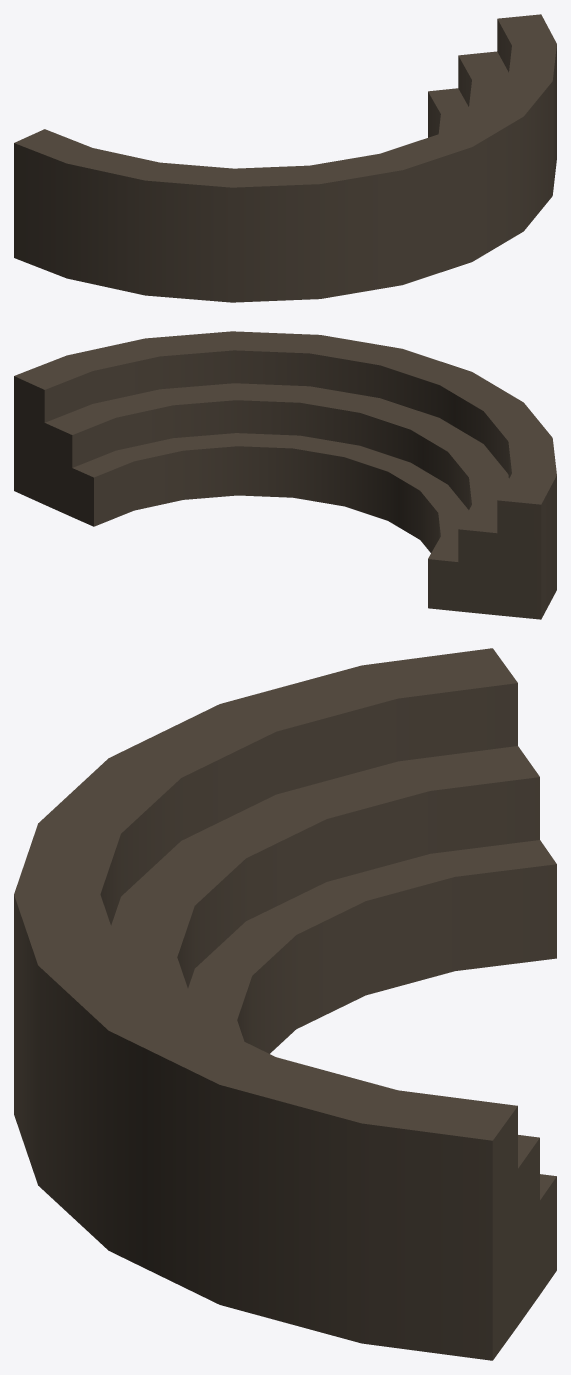
The model's file is mesh_public.fbx.
The picture shows the model from 3 angles, top to bottom: view 1: azimuth 30°, elevation 25°; view 2: azimuth 150°, elevation 25°; view 3: azimuth 270°, elevation 25°; orthographic projection. The views are drawn at different scales.
Parts seen in each view (by area): view 1: Public; view 2: Public; view 3: Public.
Part boxes in pixels (<box>): Public: <box>14,14,556,302</box>; Public: <box>14,331,556,619</box>; Public: <box>14,648,556,1360</box>.
Bounding box in the file's own units: 1754 × 365 × 817.
